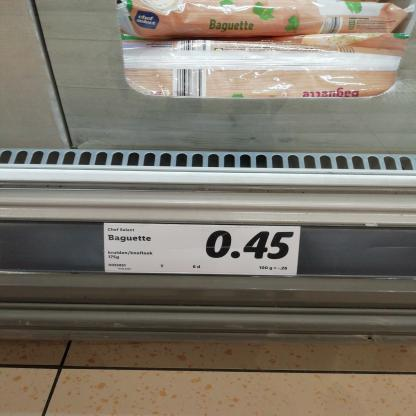prtg: (105, 224, 302, 277)
